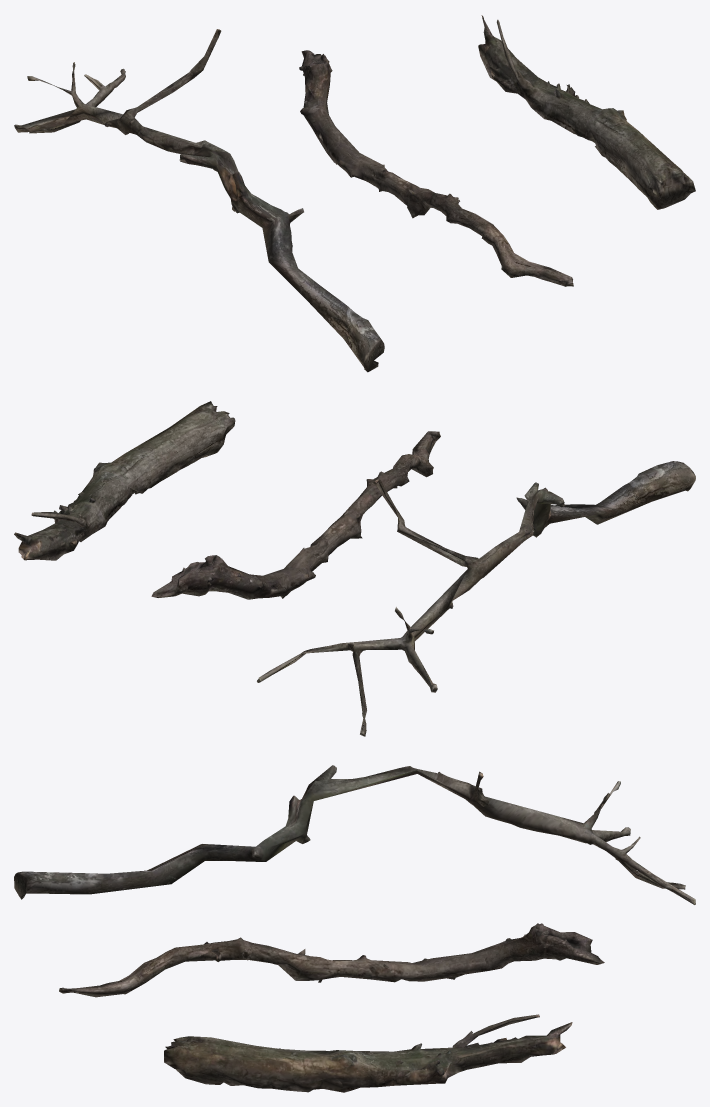
The model's file is dry_branches_medium_01.glb.
3 views of the same model, one above another, from view 1: azimuth 30°, elevation 25°; view 2: azimuth 150°, elevation 25°; view 3: azimuth 270°, elevation 25° (orthographic). The views are drawn at different scales.
Parts seen in each view (by area): view 1: dry_branches_medium_01_a, dry_branches_medium_01_c, dry_branches_medium_01_b; view 2: dry_branches_medium_01_a, dry_branches_medium_01_c, dry_branches_medium_01_b; view 3: dry_branches_medium_01_c, dry_branches_medium_01_a, dry_branches_medium_01_b.
Part boxes in pixels (x1,y1,x2,y2): dry_branches_medium_01_a: (14,29,384,372); dry_branches_medium_01_c: (478,15,695,209); dry_branches_medium_01_b: (299,50,573,286); dry_branches_medium_01_a: (257,461,695,736); dry_branches_medium_01_c: (14,401,235,560); dry_branches_medium_01_b: (151,431,440,599); dry_branches_medium_01_c: (164,1014,572,1092); dry_branches_medium_01_a: (14,765,695,904); dry_branches_medium_01_b: (59,923,604,997).
Bounding box in the file's own units: 1.06 × 0.3401 × 1.3.
Materials: 1 (1 with a texture image).
